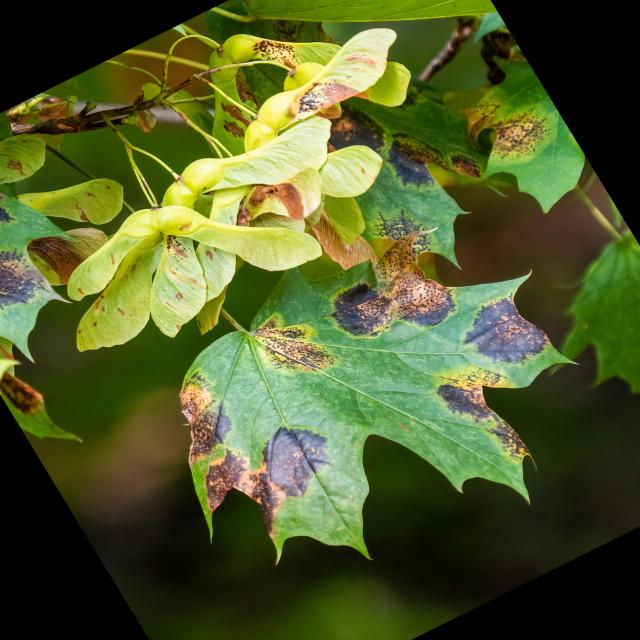Tar_Spot: (179, 222, 579, 566)
